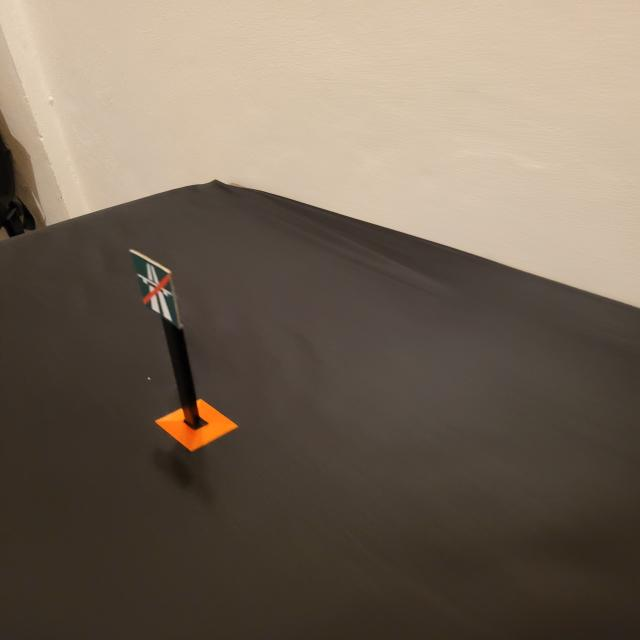highway_exit: (130, 250, 181, 328)
